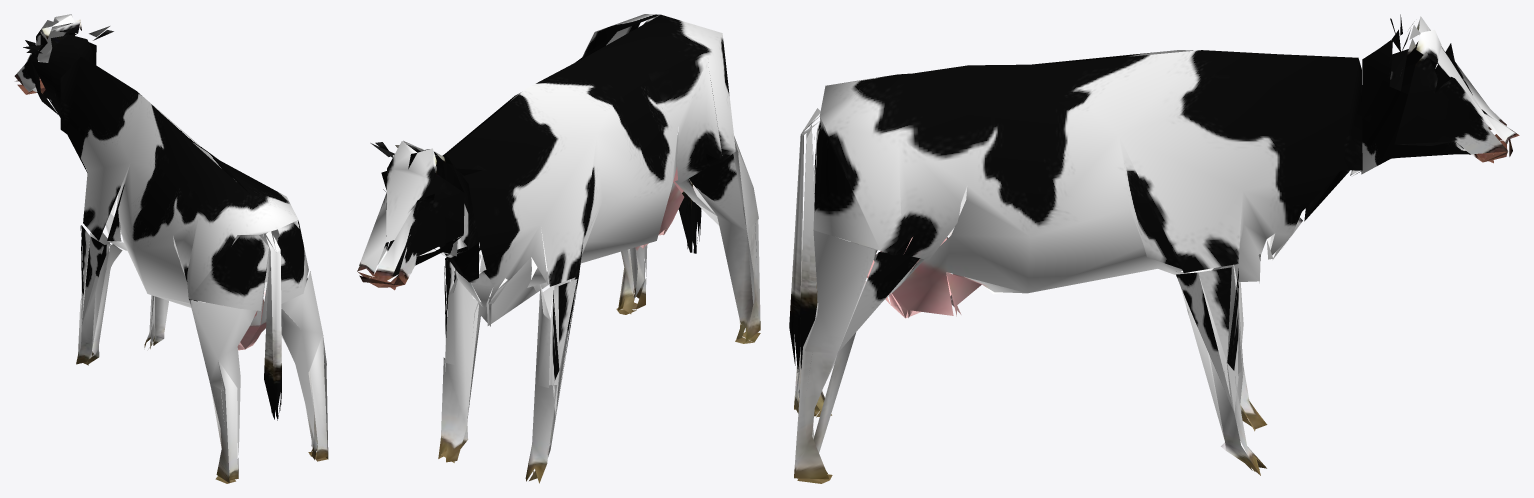
Rendered from cow_holstein_lo.glb.
3 renders of one model, left to right at view 1: azimuth 30°, elevation 25°; view 2: azimuth 150°, elevation 25°; view 3: azimuth 270°, elevation 25°, orthographic. The views are drawn at different scales.
Parts seen in each view (by area): view 1: cow_holstein_lo; view 2: cow_holstein_lo; view 3: cow_holstein_lo.
Boxes of the visible parts, <box> form: cow_holstein_lo: <box>14,14,328,483</box>; cow_holstein_lo: <box>357,14,760,483</box>; cow_holstein_lo: <box>789,14,1519,483</box>.
Bounding box in the file's own units: 0.6521 × 1.49 × 2.31.
Materials: 1 (1 with a texture image).
